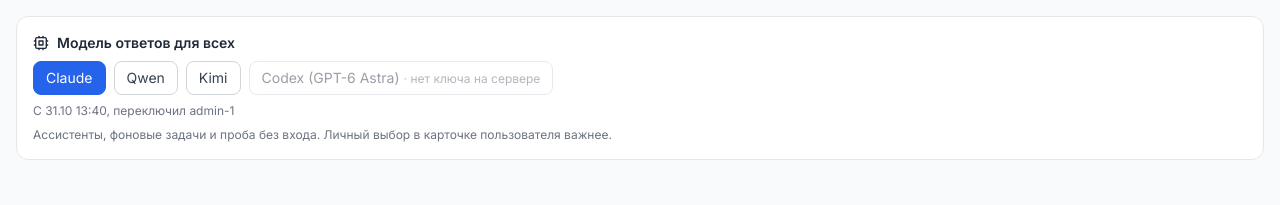
it: GlobalLlmProviderControl › 409 no_key — понятная ошибка; выбор не меняется, событие не уходит, ключи перечитаны
This screenshot has width=1280, height=205.
Click the radio button labelled "Kimi" at coordinates (213, 78), box x1=186 y1=61 x2=240 y2=95
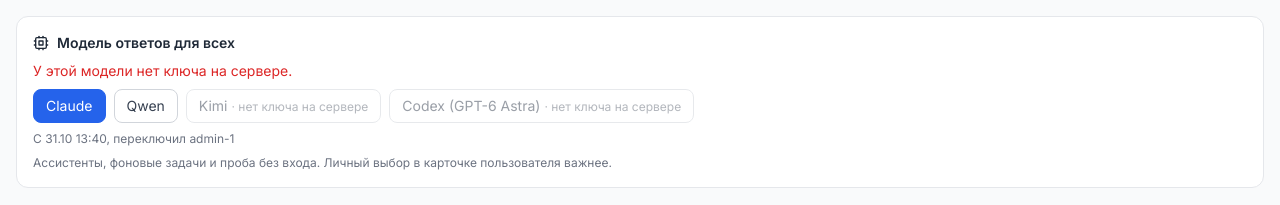
Expected: the text "У этой модели нет ключа на сервере" is shown, x1=33 y1=62 x2=292 y2=79
Expected: the radio button labelled "Kimi· нет ключа на сервере" is disabled, x1=186 y1=89 x2=381 y2=123
